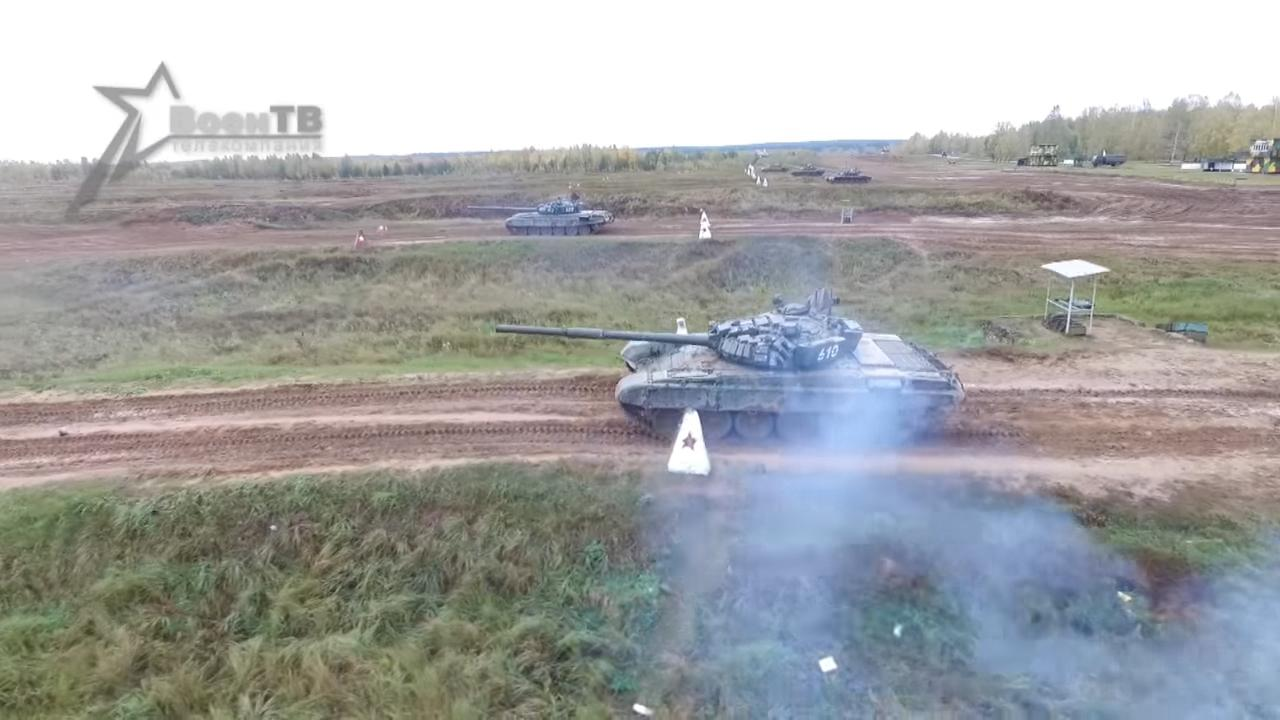tank: (494, 303, 966, 446), (467, 199, 616, 236), (824, 169, 873, 184), (792, 166, 825, 177)
